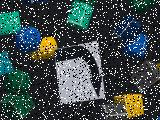Right: (54, 40, 105, 104)
